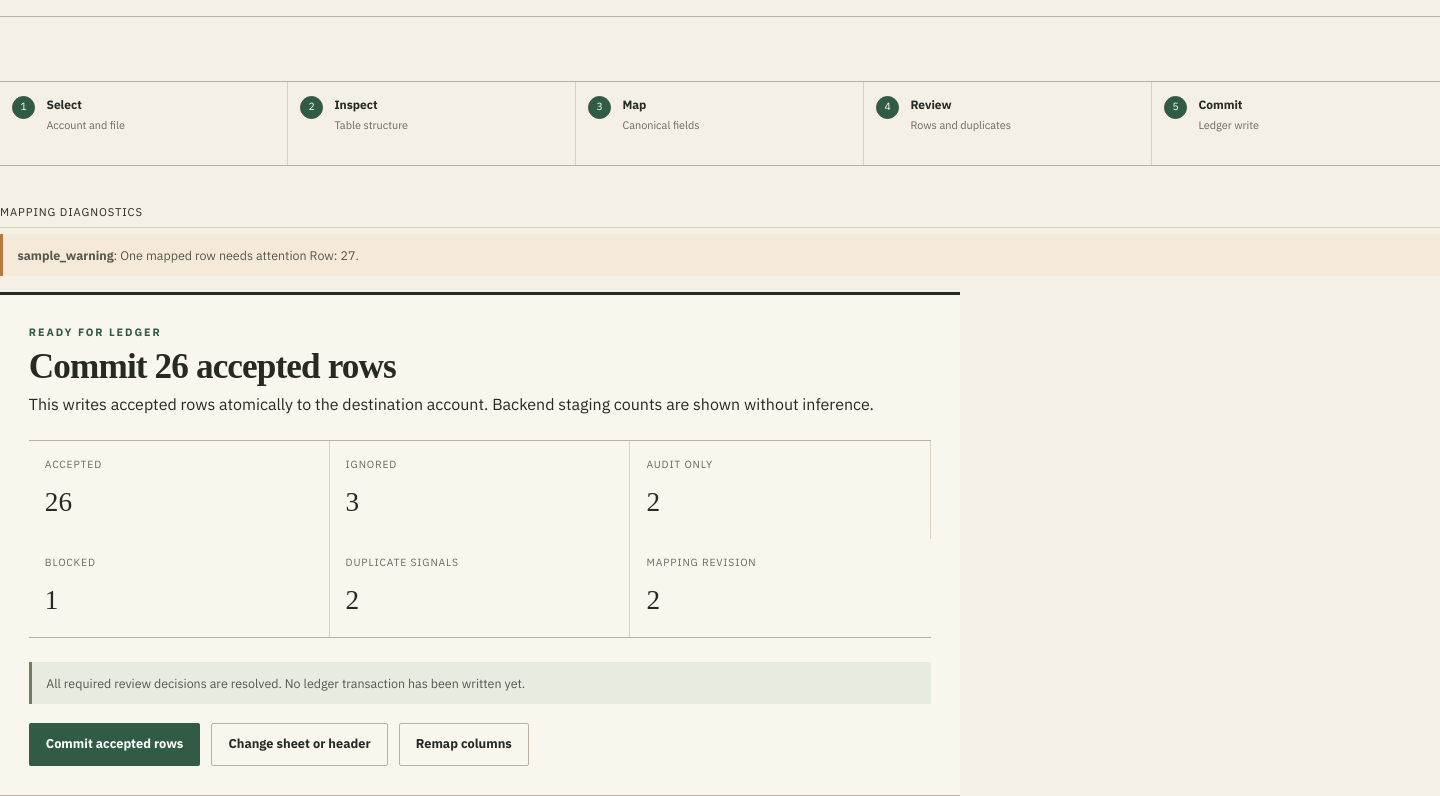
Test: ImportWizardPage › offers inspection remap and uses exact backend commit counts
This screenshot has width=1440, height=796.
(page scrolled)
Expected: the heading "Commit 26 accepted rows" is shown, [29,347,396,386]
Expected: the text "2" below "Audit only" is shown, [646,487,660,517]
Click the button "Change sheet or header".
click(300, 745)  # box [212,724,388,766]
(page scrolled)
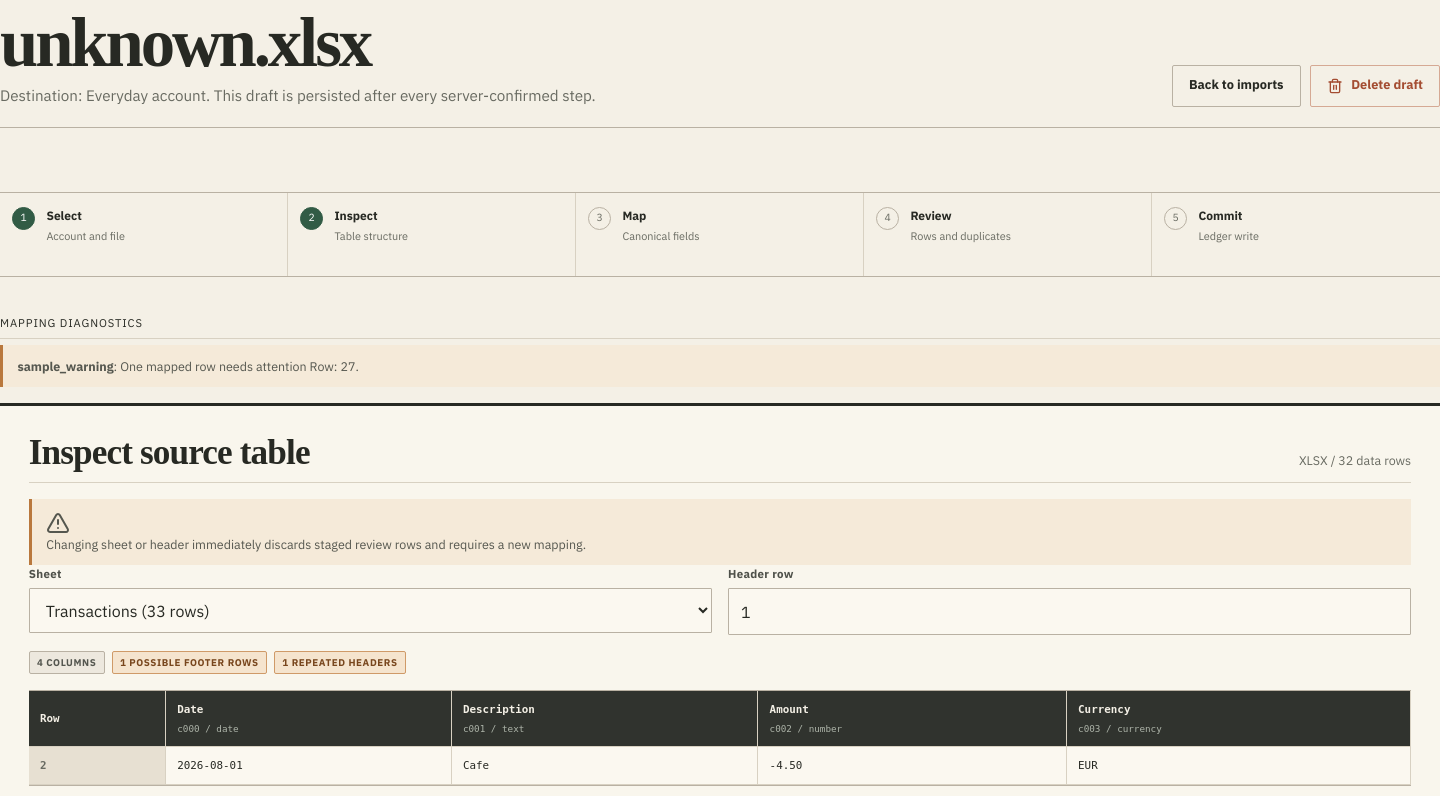
Expected: the heading "Inspect source table" is shown, [29,435,310,470]
Expected: the heading "Commit 26 accepted rows" is gone
